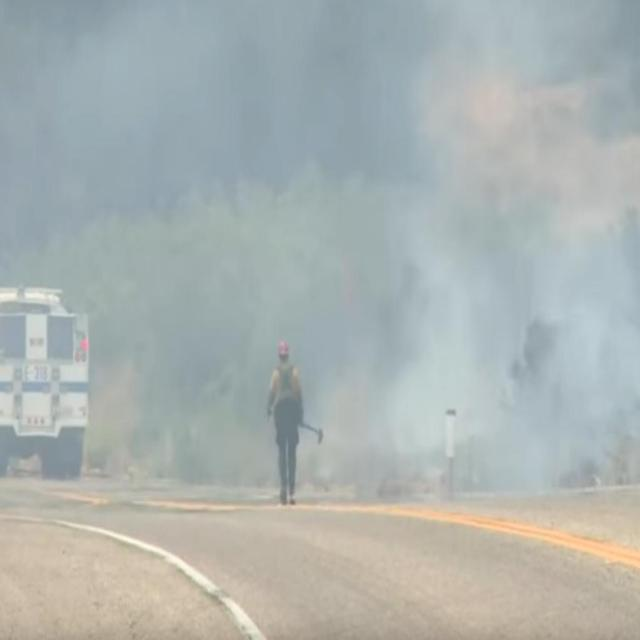Smoke: (351, 63, 606, 485), (8, 22, 263, 194)
